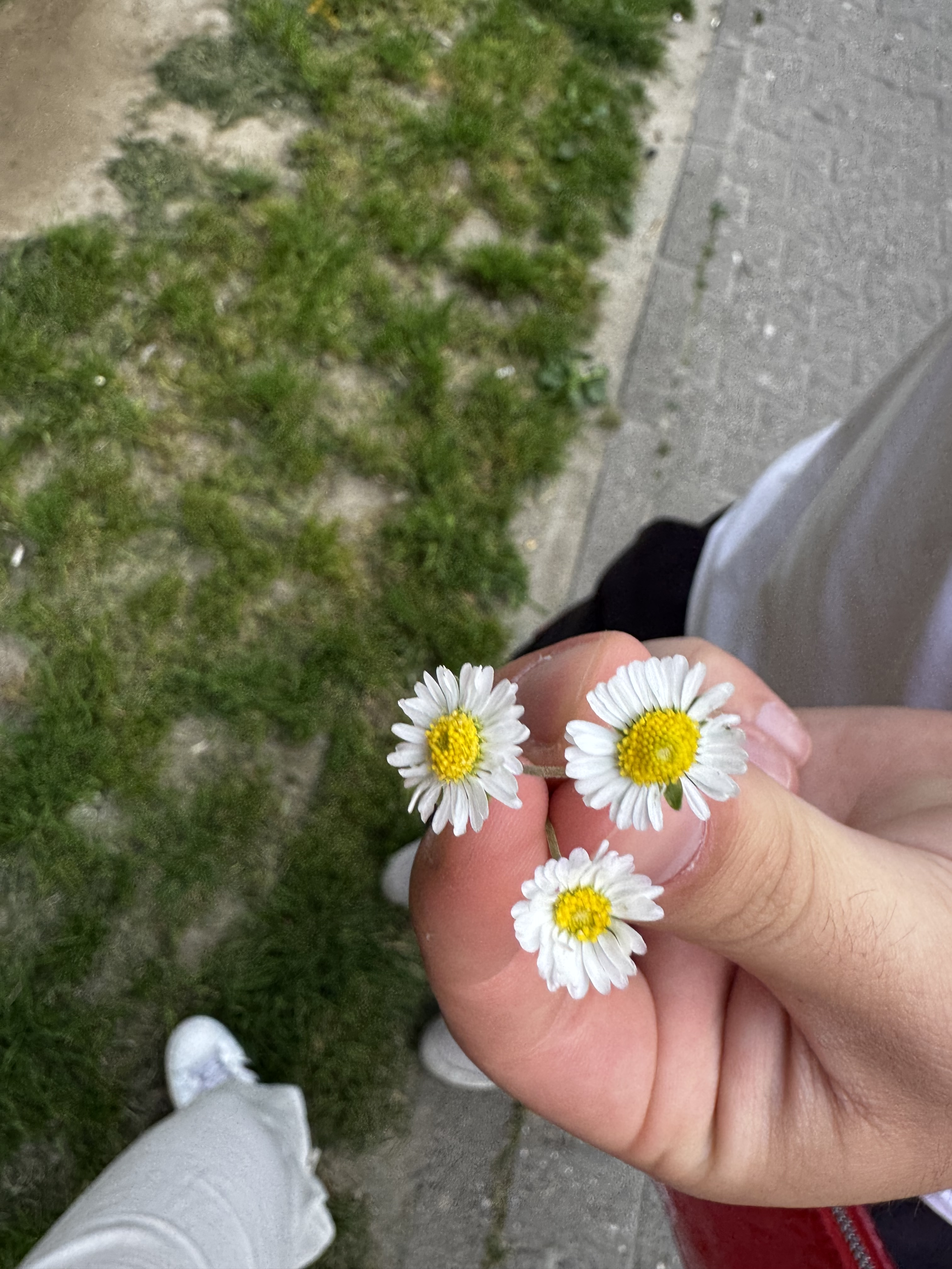daisy: (551, 653, 757, 825), (490, 844, 677, 1009), (370, 672, 525, 835)
